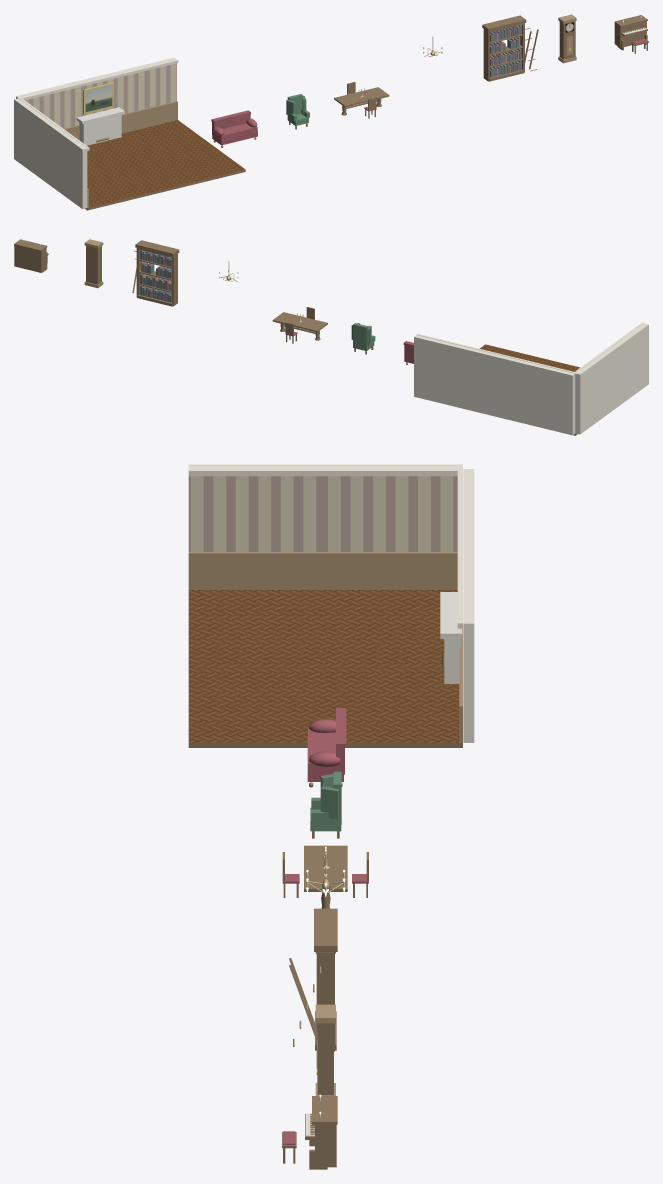
The model's file is kit-25-interior-eropa.glb.
The picture shows the model from 3 angles, top to bottom: view 1: azimuth 30°, elevation 25°; view 2: azimuth 150°, elevation 25°; view 3: azimuth 270°, elevation 25°; orthographic projection. The views are drawn at different scales.
Parts seen in each view (by area): view 1: EropaIn_RuangPerapian, EropaIn_RakBuku, EropaIn_SofaChesterfield, EropaIn_Piano, EropaIn_MejaMakan, EropaIn_JamKakek, EropaIn_KursiWingback; view 2: EropaIn_RuangPerapian, EropaIn_RakBuku, EropaIn_MejaMakan, EropaIn_Piano, EropaIn_JamKakek, EropaIn_KursiWingback; view 3: EropaIn_RuangPerapian, EropaIn_RakBuku, EropaIn_MejaMakan, EropaIn_Piano, EropaIn_SofaChesterfield, EropaIn_JamKakek, EropaIn_KursiWingback.
Part boxes in pixels (x1,y1,x2,y2): EropaIn_RuangPerapian: [14, 57, 245, 210]; EropaIn_RakBuku: [482, 15, 538, 81]; EropaIn_SofaChesterfield: [211, 110, 257, 147]; EropaIn_Piano: [614, 15, 648, 53]; EropaIn_MejaMakan: [334, 82, 389, 118]; EropaIn_JamKakek: [558, 14, 576, 63]; EropaIn_KursiWingback: [286, 94, 309, 129]; EropaIn_RuangPerapian: [414, 322, 648, 435]; EropaIn_RakBuku: [132, 240, 179, 306]; EropaIn_MejaMakan: [272, 307, 327, 343]; EropaIn_Piano: [14, 239, 48, 272]; EropaIn_JamKakek: [84, 239, 103, 288]; EropaIn_KursiWingback: [351, 323, 375, 354]; EropaIn_RuangPerapian: [188, 464, 474, 747]; EropaIn_RakBuku: [289, 908, 337, 1051]; EropaIn_MejaMakan: [282, 845, 368, 908]; EropaIn_Piano: [282, 1094, 337, 1169]; EropaIn_SofaChesterfield: [307, 708, 346, 787]; EropaIn_JamKakek: [315, 1004, 335, 1095]; EropaIn_KursiWingback: [310, 771, 341, 838].
Size of the model in its own units: 37.65 by 3.76 by 7.81.
21 materials, 4 textured.
